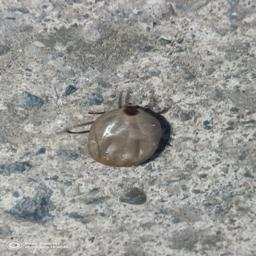Rhipicephalus sanguineus: (87, 104, 163, 168)
